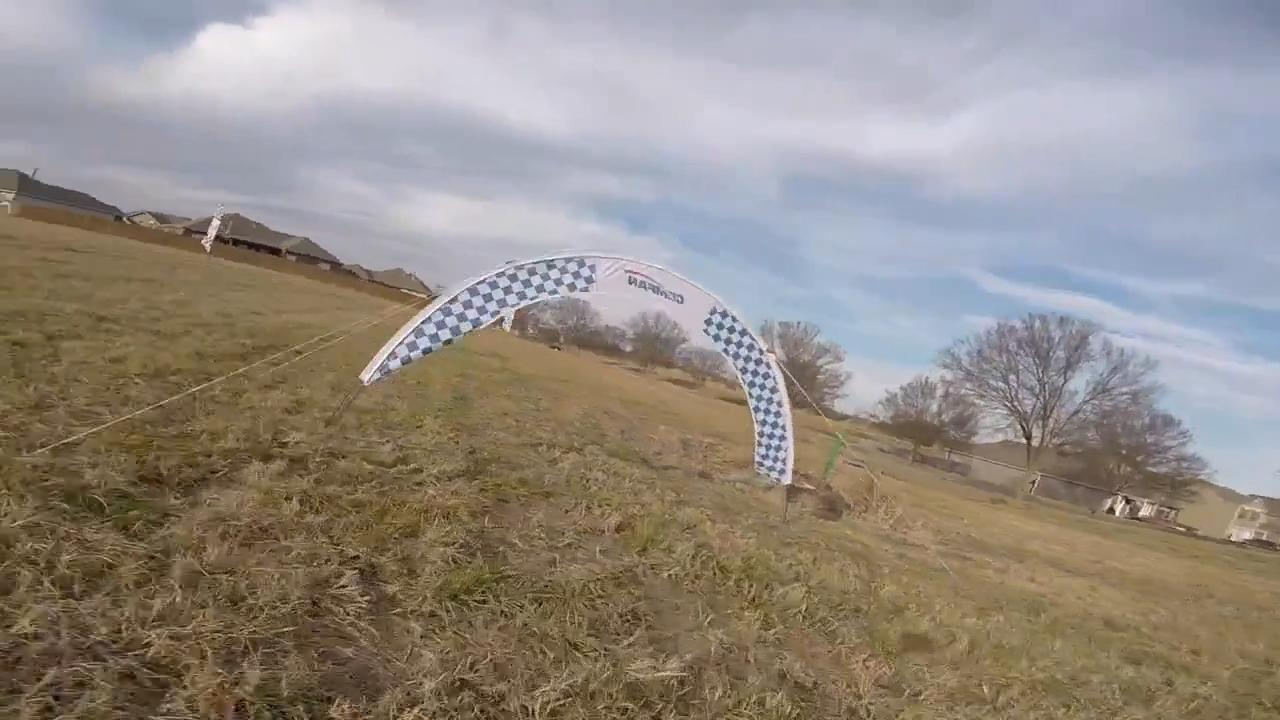gate: (354, 247, 795, 491)
